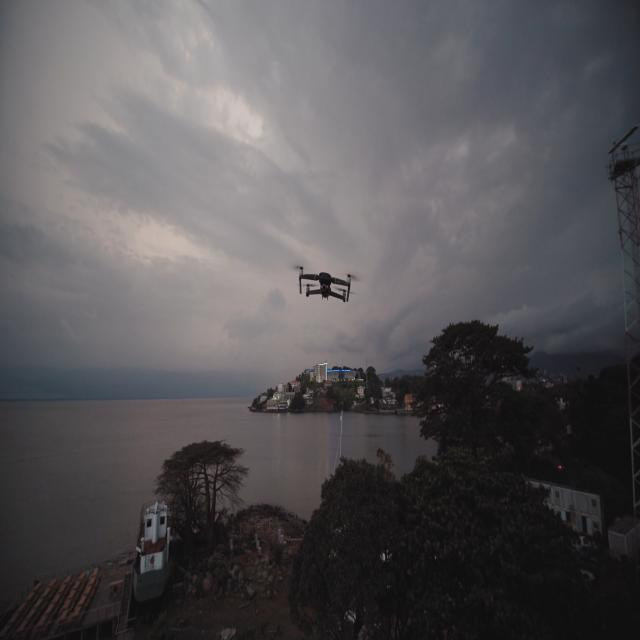drone: (294, 264, 356, 303)
